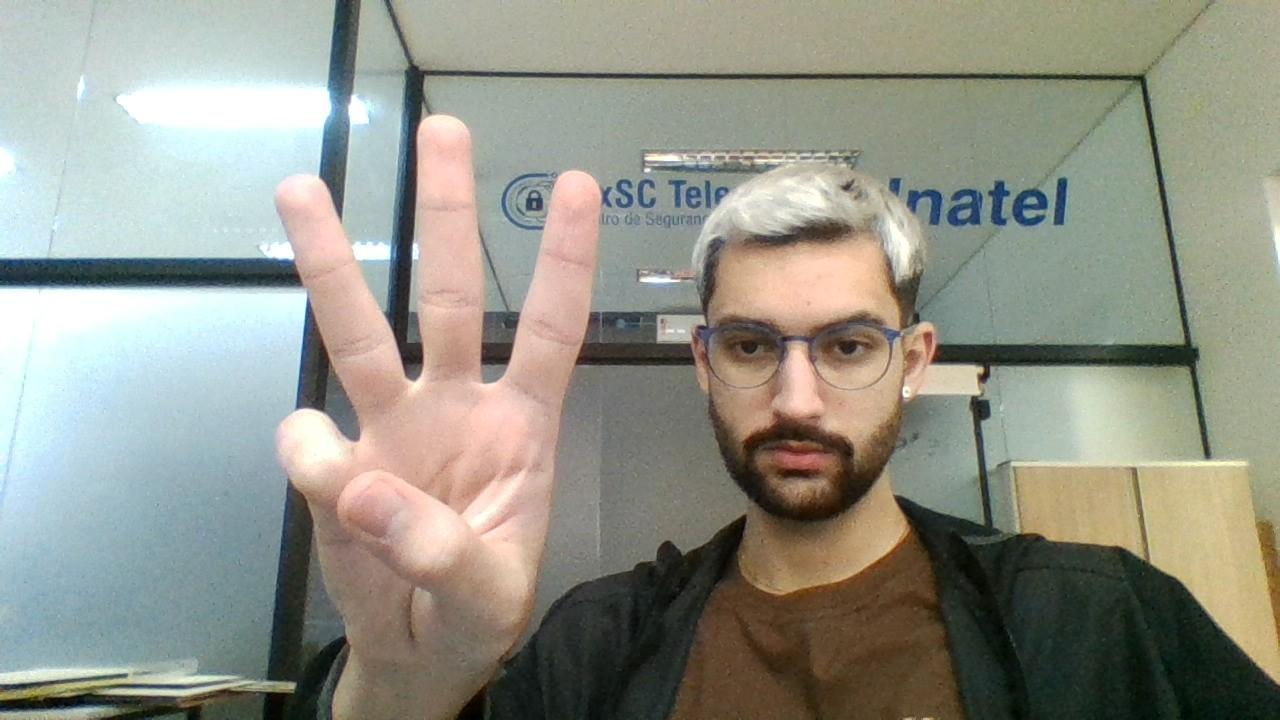W: (260, 98, 604, 678)
